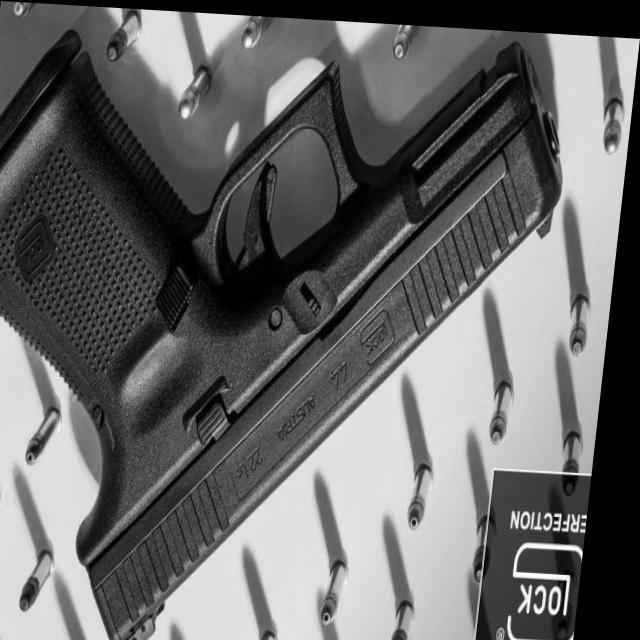handgun: (0, 25, 581, 640)
